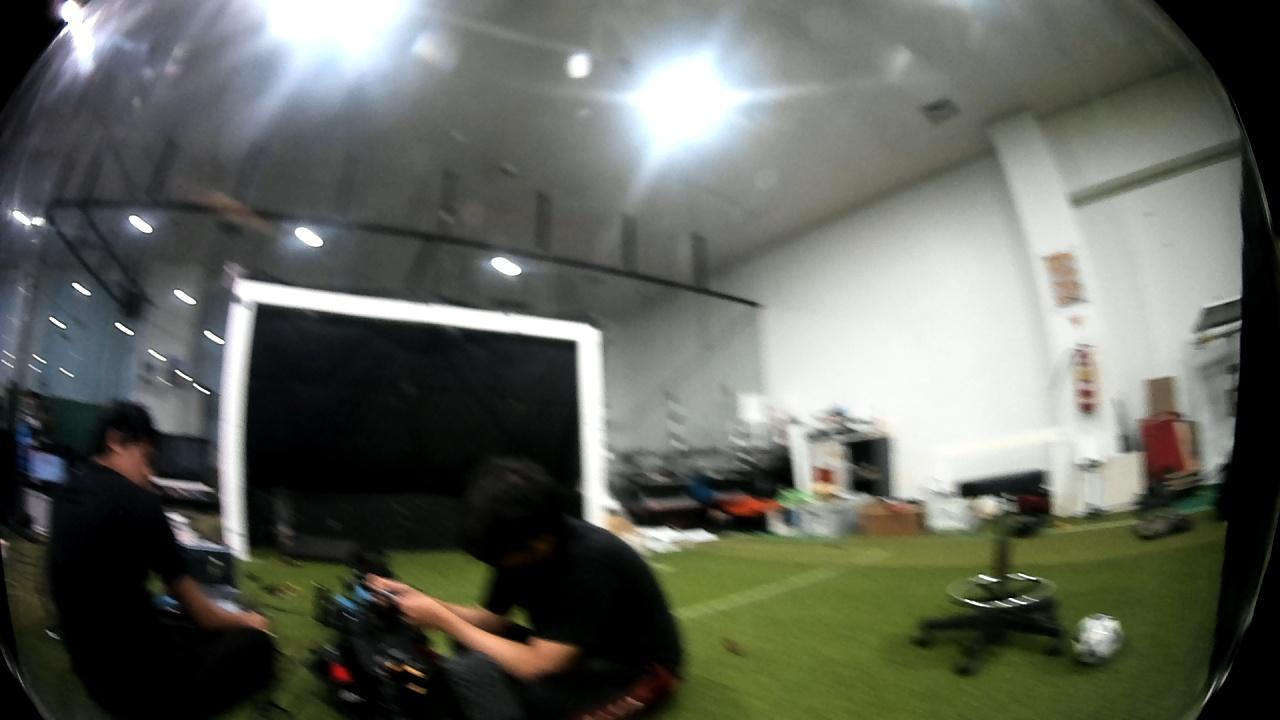ball: (1065, 605, 1129, 672)
